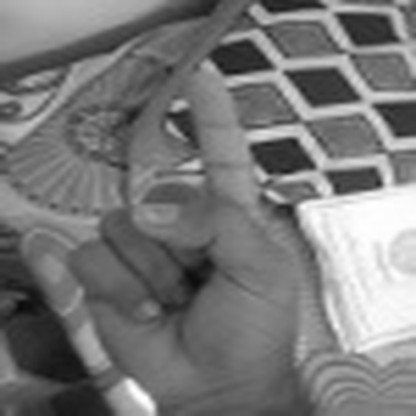d: (72, 73, 289, 405)
